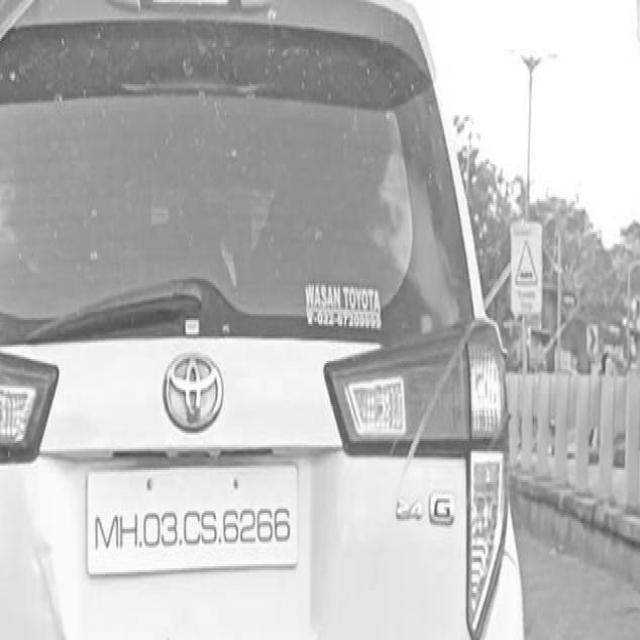license-plate: (88, 468, 300, 572)
